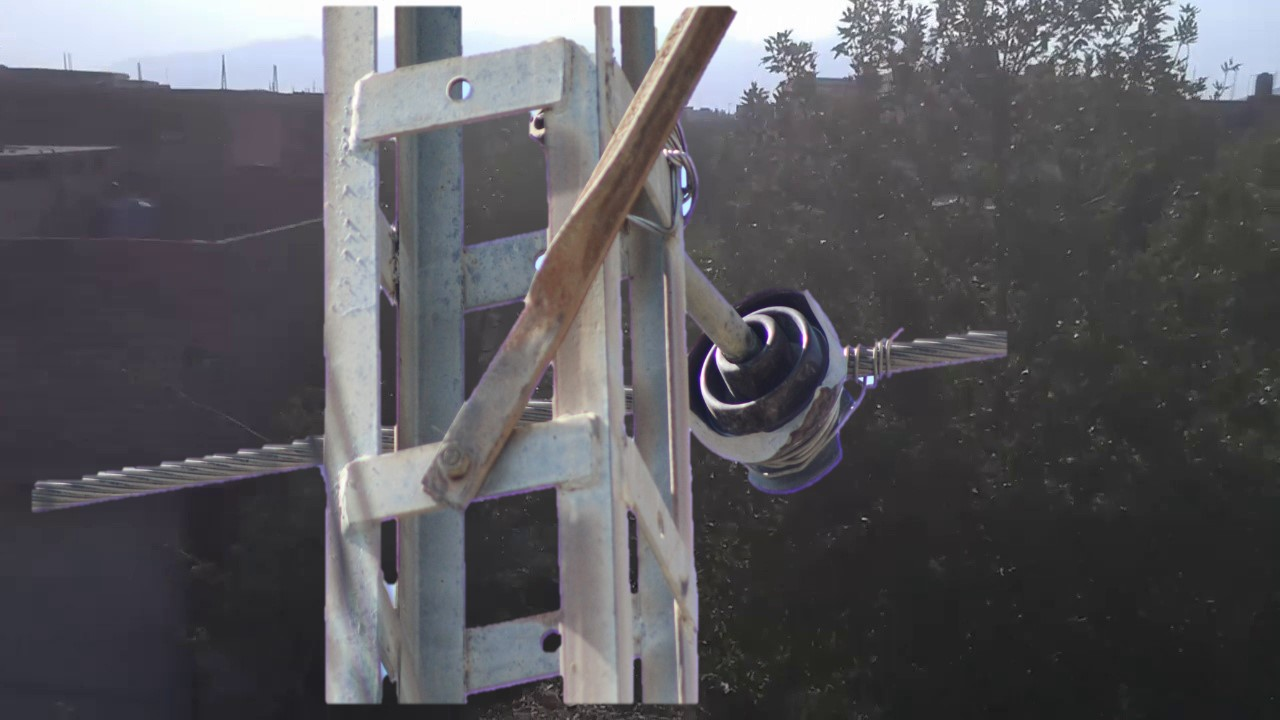defect_pin: (684, 278, 868, 508)
